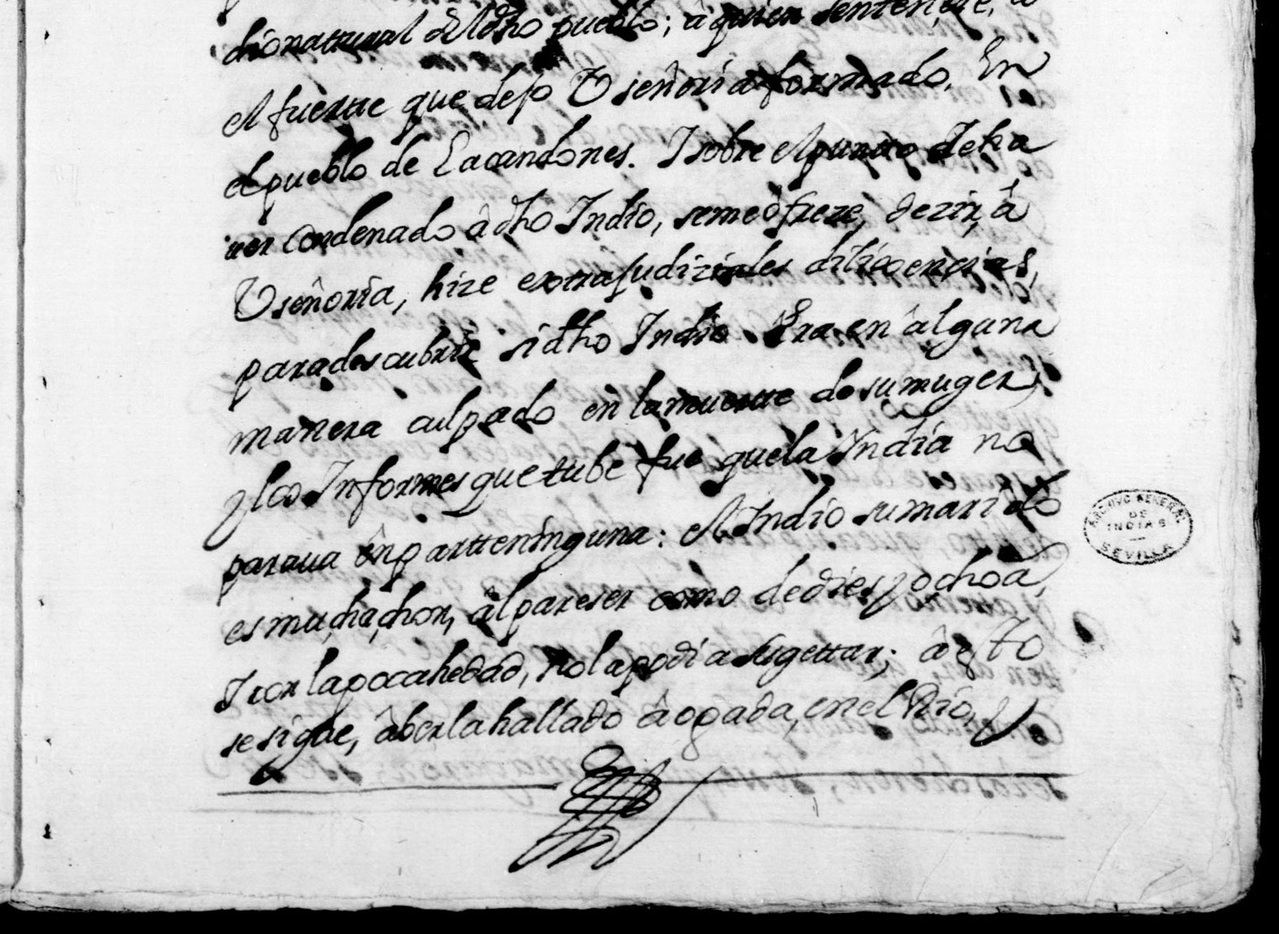lacandon: (433, 113, 634, 177)
